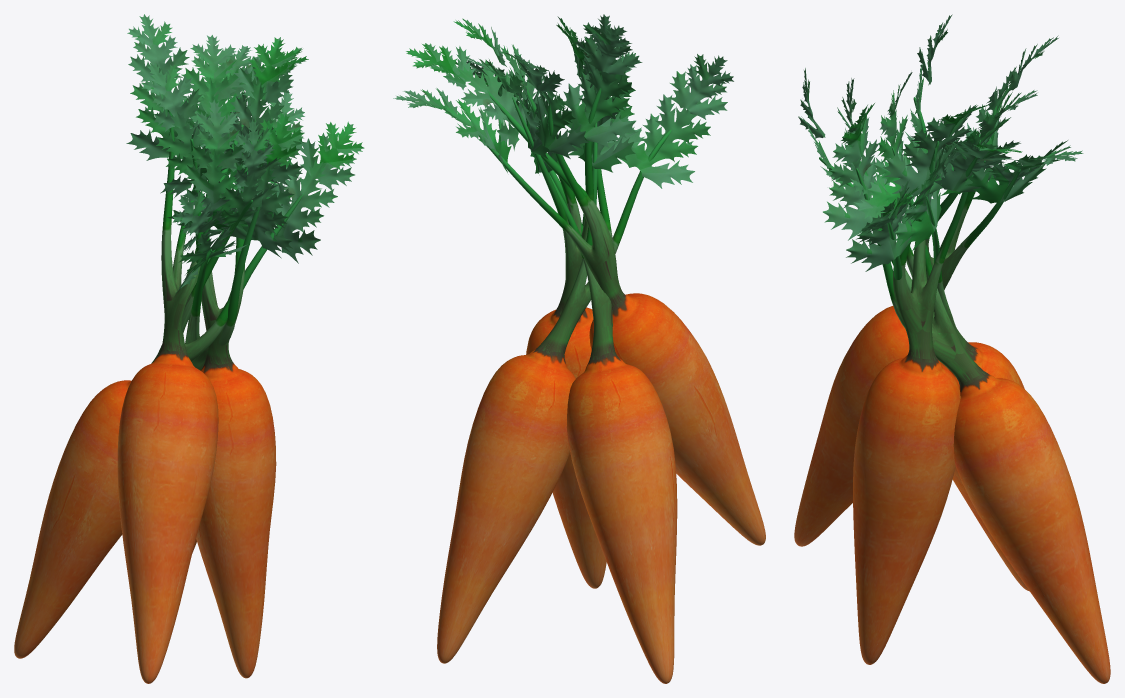
Rendered from kjg_buendel.fbx.
3 renders of one model, left to right at view 1: azimuth 30°, elevation 25°; view 2: azimuth 150°, elevation 25°; view 3: azimuth 270°, elevation 25°, orthographic. The views are drawn at different scales.
Visible parts, largest first — view 1: 10170_Carrot_v01_L3.004, 10170_Carrot_v01_L3.001, 10170_Carrot_v01_L3.003, 10170_Carrot_v01_L3.002; view 2: 10170_Carrot_v01_L3.002, 10170_Carrot_v01_L3.004, 10170_Carrot_v01_L3.003, 10170_Carrot_v01_L3.001; view 3: 10170_Carrot_v01_L3.002, 10170_Carrot_v01_L3.001, 10170_Carrot_v01_L3.004, 10170_Carrot_v01_L3.003.
Part boxes in pixels (box(x1,y1,x2,y2)): 10170_Carrot_v01_L3.004: box(117, 14, 308, 683); 10170_Carrot_v01_L3.001: box(141, 35, 297, 678); 10170_Carrot_v01_L3.003: box(14, 90, 364, 658); 10170_Carrot_v01_L3.002: box(167, 99, 304, 552); 10170_Carrot_v01_L3.002: box(437, 16, 733, 663); 10170_Carrot_v01_L3.004: box(393, 43, 765, 545); 10170_Carrot_v01_L3.003: box(455, 14, 677, 683); 10170_Carrot_v01_L3.001: box(453, 18, 642, 588); 10170_Carrot_v01_L3.002: box(798, 68, 1110, 683); 10170_Carrot_v01_L3.001: box(853, 14, 1037, 664); 10170_Carrot_v01_L3.004: box(794, 35, 1083, 546); 10170_Carrot_v01_L3.003: box(837, 78, 1029, 591).
Size of the model in its own units: 87.69 by 179 by 82.29.
